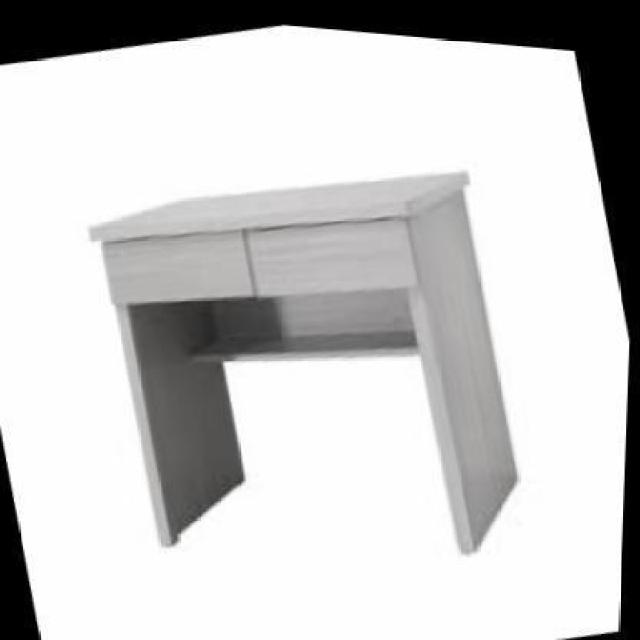tables: (86, 168, 520, 554)
